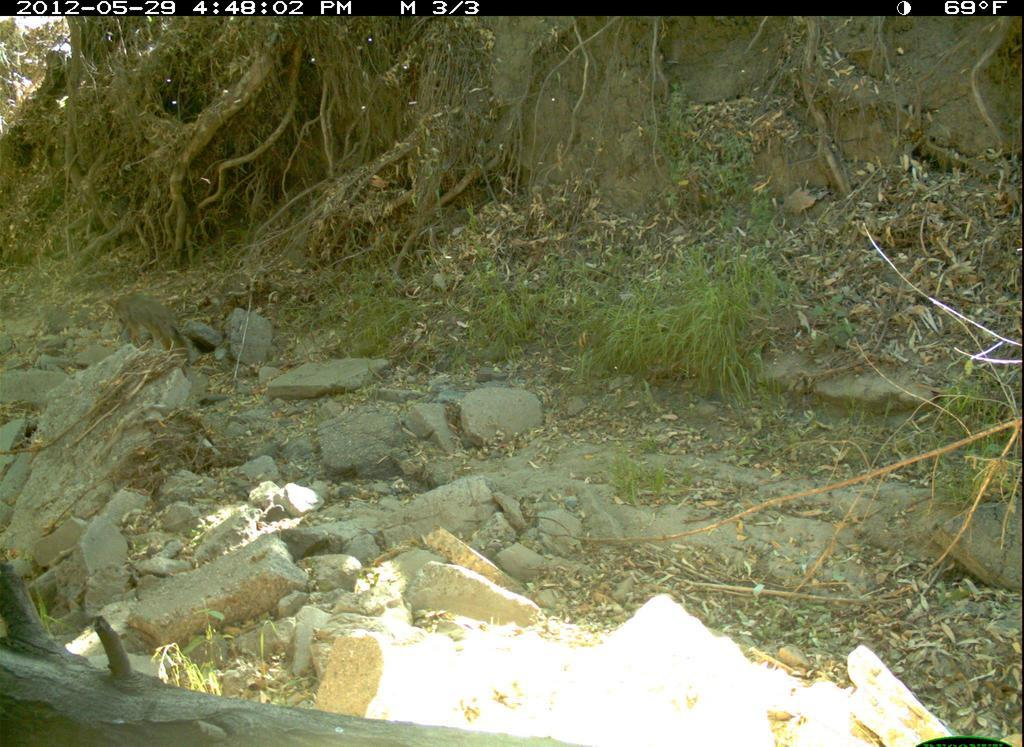coyote: (93, 282, 209, 367)
